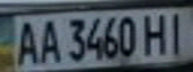0: (118, 12, 142, 57)
3: (63, 15, 84, 62)
4: (84, 14, 106, 61)
6: (103, 12, 124, 60)
A: (12, 17, 42, 66), (33, 16, 60, 65)
H: (139, 10, 172, 56)
I: (163, 9, 193, 55)
